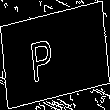P_N: (41, 27, 69, 83)
